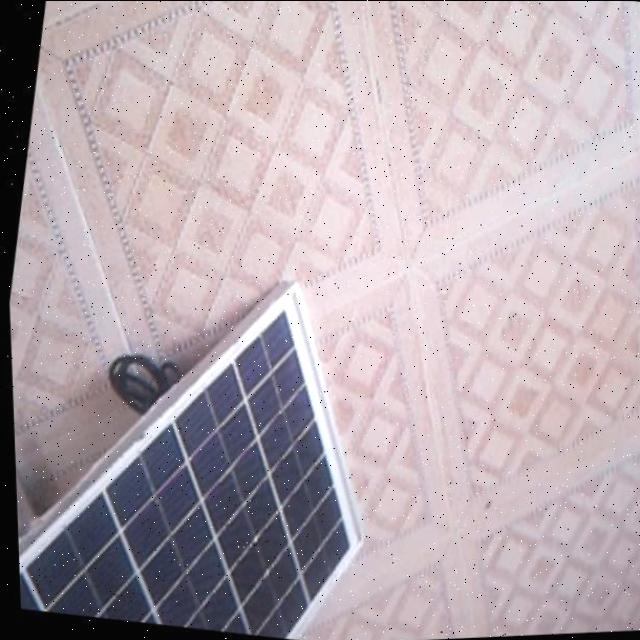Normal Solar Panel: (6, 239, 394, 640)
